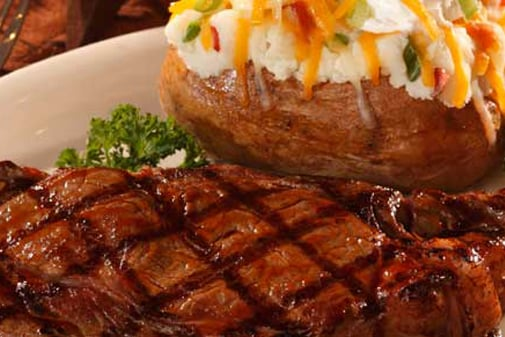curry: (56, 103, 205, 173)
